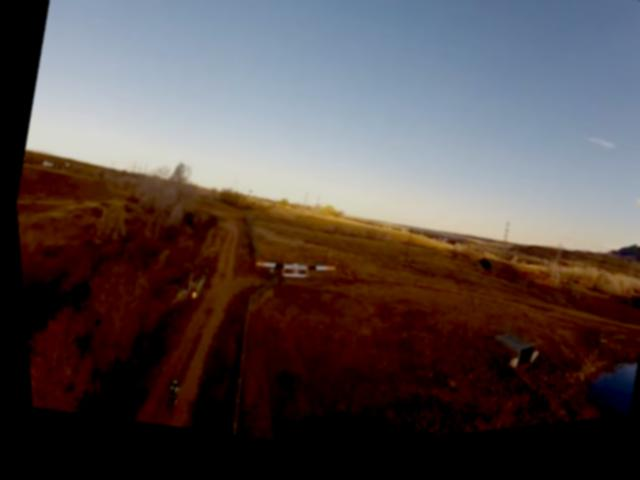uav: (244, 249, 332, 298)
